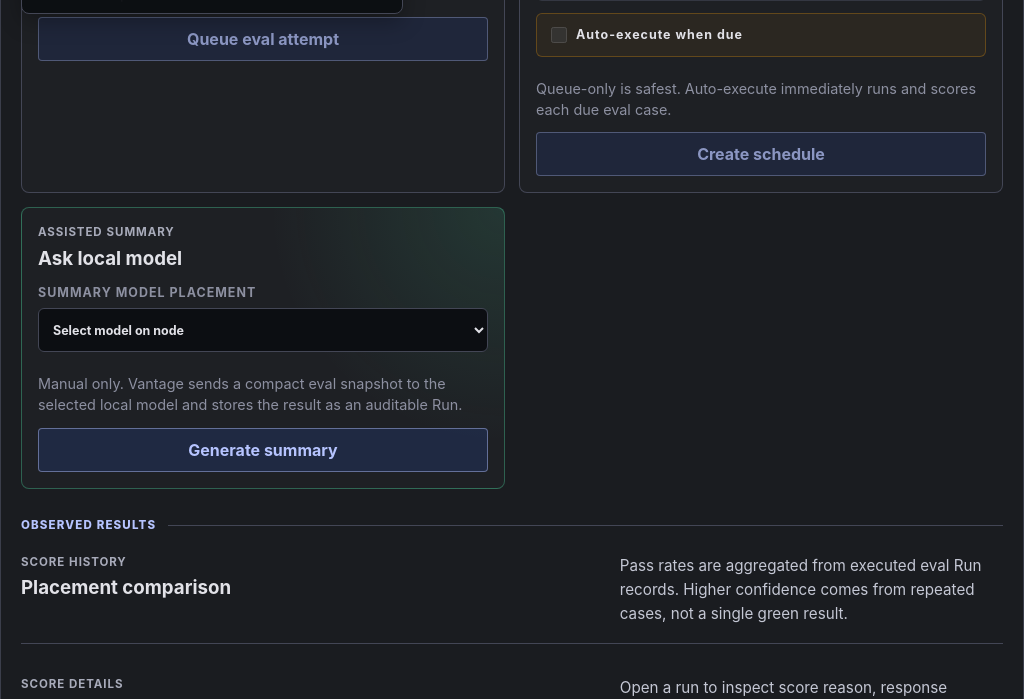
EvalsPage › generates an optional assisted eval summary
The width and height of the screenshot is (1024, 699).
(page scrolled)
Select "llama3.2:latest on control-plane" in the dropdown labelled "Summary model placement". click: (263, 330)
box: x1=38 y1=308 x2=488 y2=352
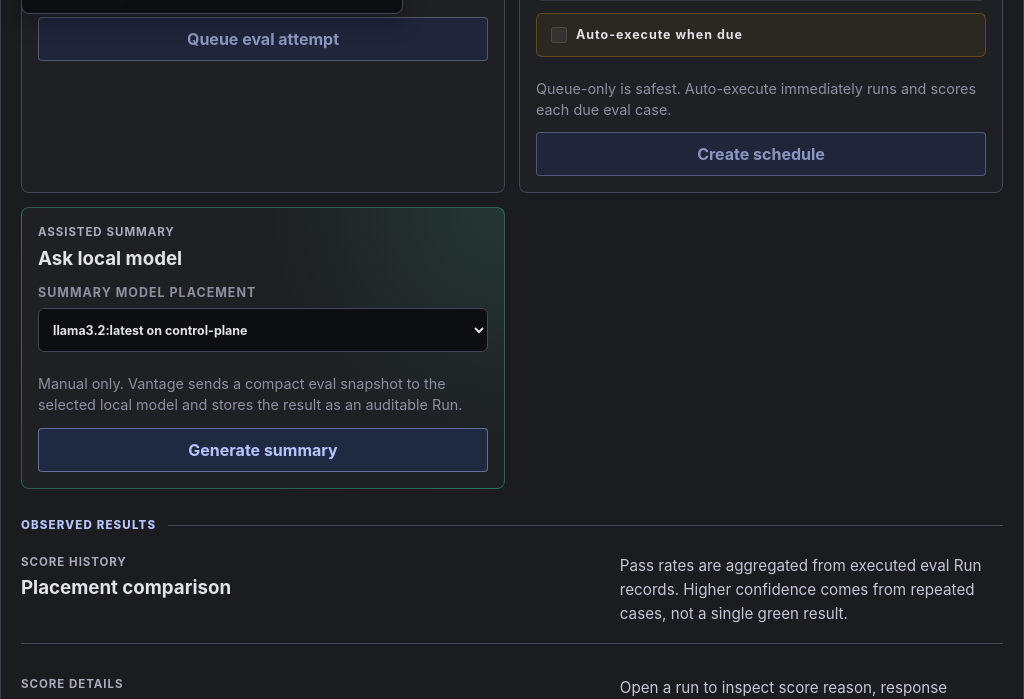
Click the button "Generate summary". click: (263, 450)
box: x1=38 y1=428 x2=488 y2=472
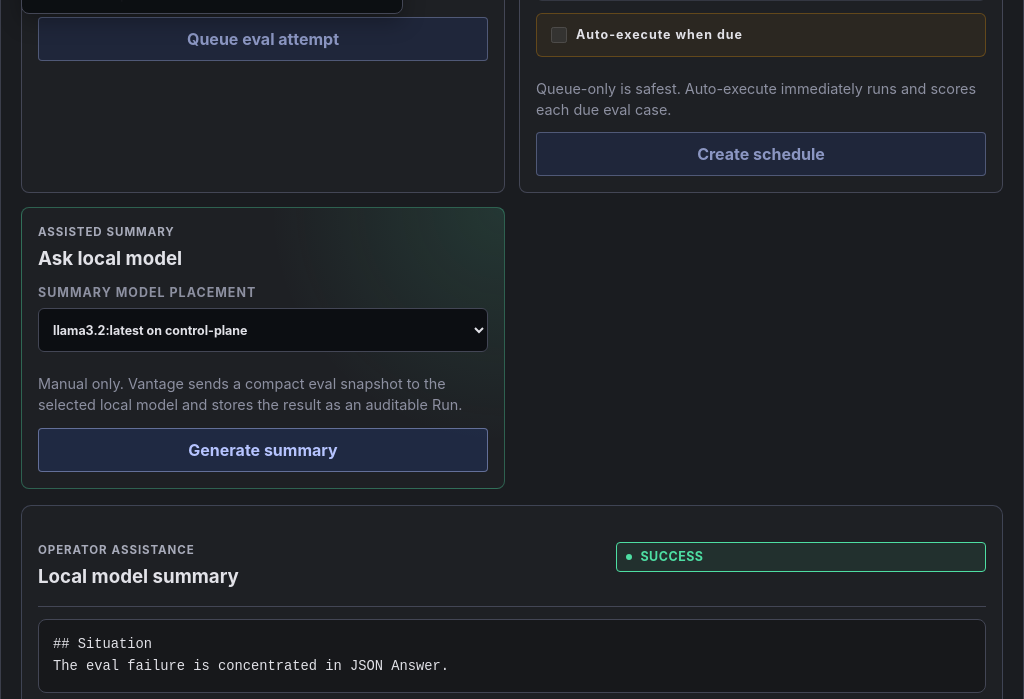
Result: the heading "Local model summary" is shown at x1=38 y1=565 x2=239 y2=588
Result: the text "failure is concentrated in JSON Answer" is shown at x1=53 y1=637 x2=449 y2=674
